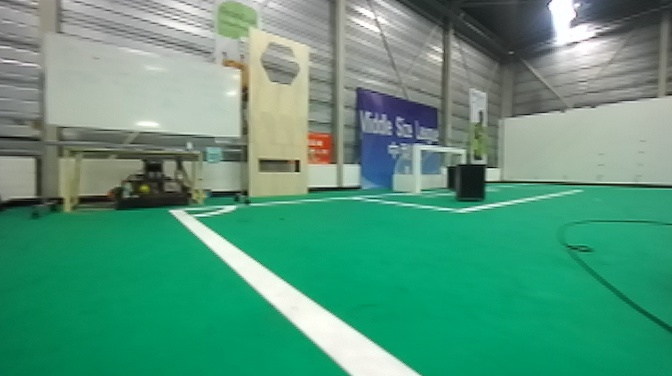goalpost: (413, 140, 423, 192), (456, 147, 465, 165)
